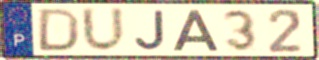2: (266, 7, 305, 54)
3: (221, 9, 259, 52)
A: (171, 8, 221, 52)
D: (35, 7, 82, 53)
J: (133, 9, 167, 51)
U: (79, 6, 128, 55)
